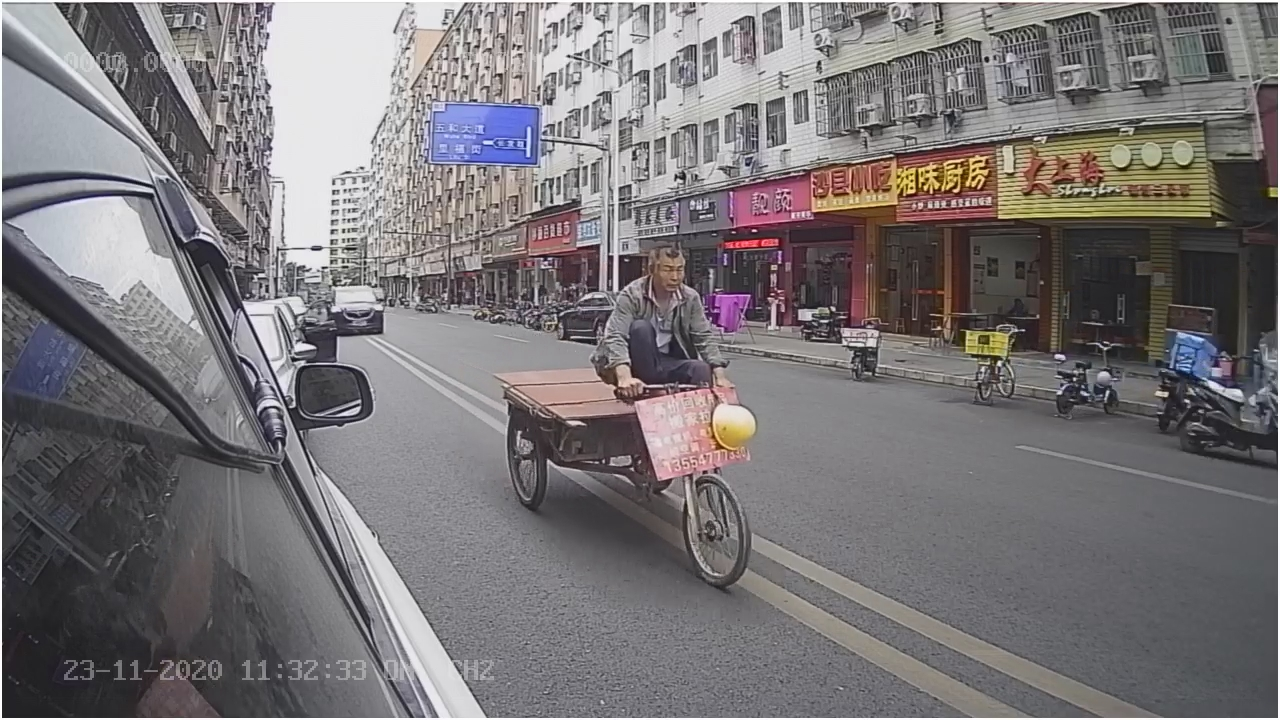person: (592, 231, 736, 396)
